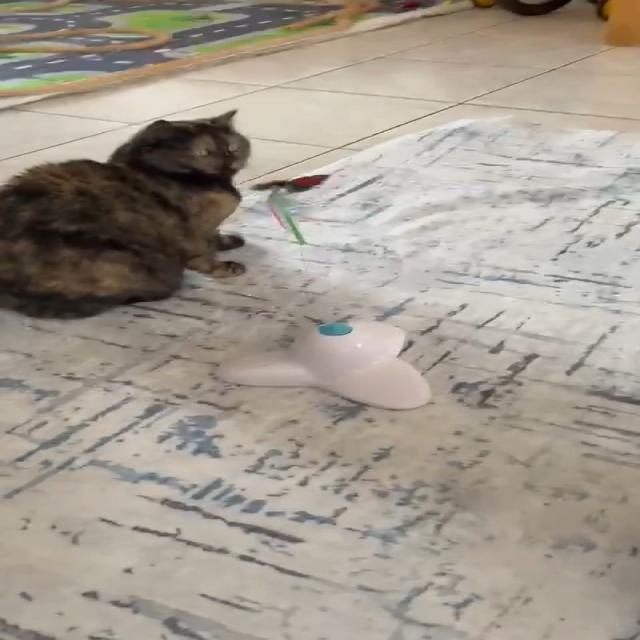authorized: (0, 108, 251, 320)
